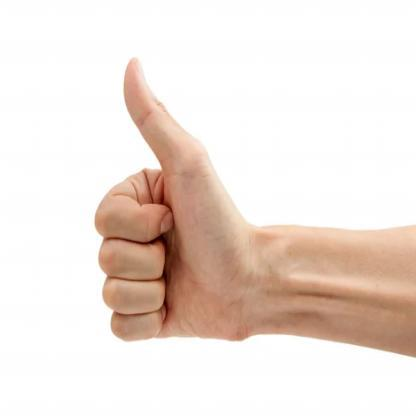thumb_up: (95, 56, 252, 343)
